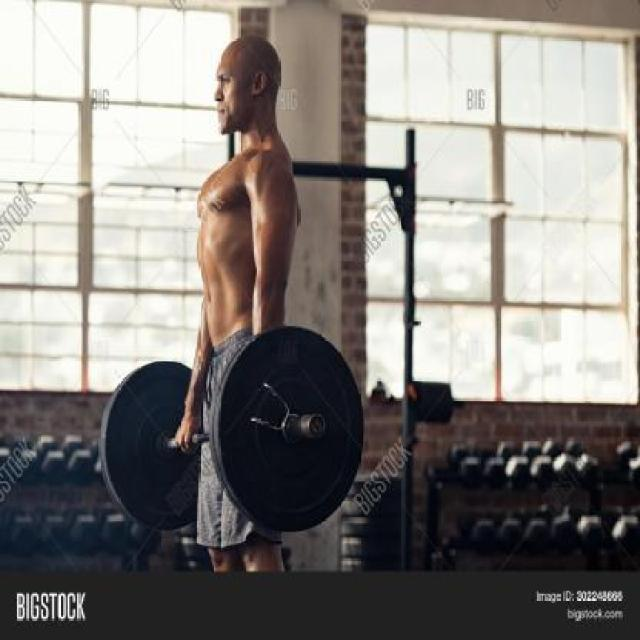barbell: (204, 317, 381, 539)
